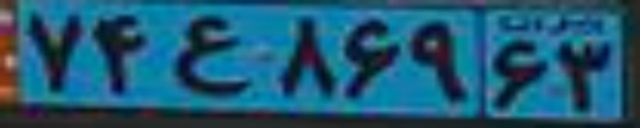3: (556, 38, 617, 112)
4: (90, 13, 148, 94)
6: (342, 19, 403, 100), (490, 38, 549, 108)
7: (22, 9, 83, 92)
8: (270, 16, 341, 99)
9: (407, 20, 473, 104)
saat: (171, 15, 251, 97)
